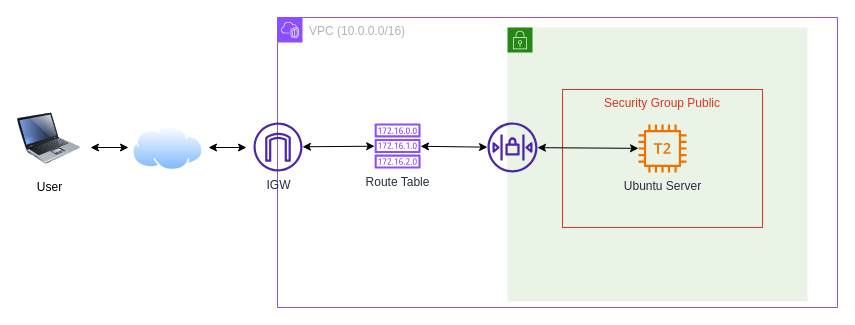
This 855x325 diagram has some shape labels left out. The box of each missing label's shape, as (x1, y1, x2, y2) in pixels:
Internet: (132, 126, 203, 170)
NACL Subnet Public: (487, 122, 537, 172)
Subnet Public (10.0.10.0/24): (506, 26, 808, 302)
